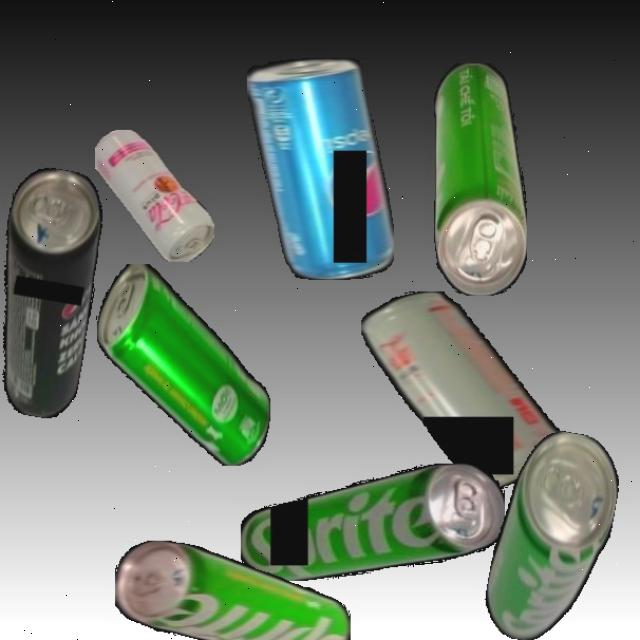debris: (361, 290, 570, 488), (95, 263, 270, 466), (246, 58, 394, 280), (479, 423, 626, 640), (240, 464, 505, 580), (0, 162, 114, 422), (115, 539, 350, 640), (433, 62, 527, 296), (95, 129, 214, 262)
